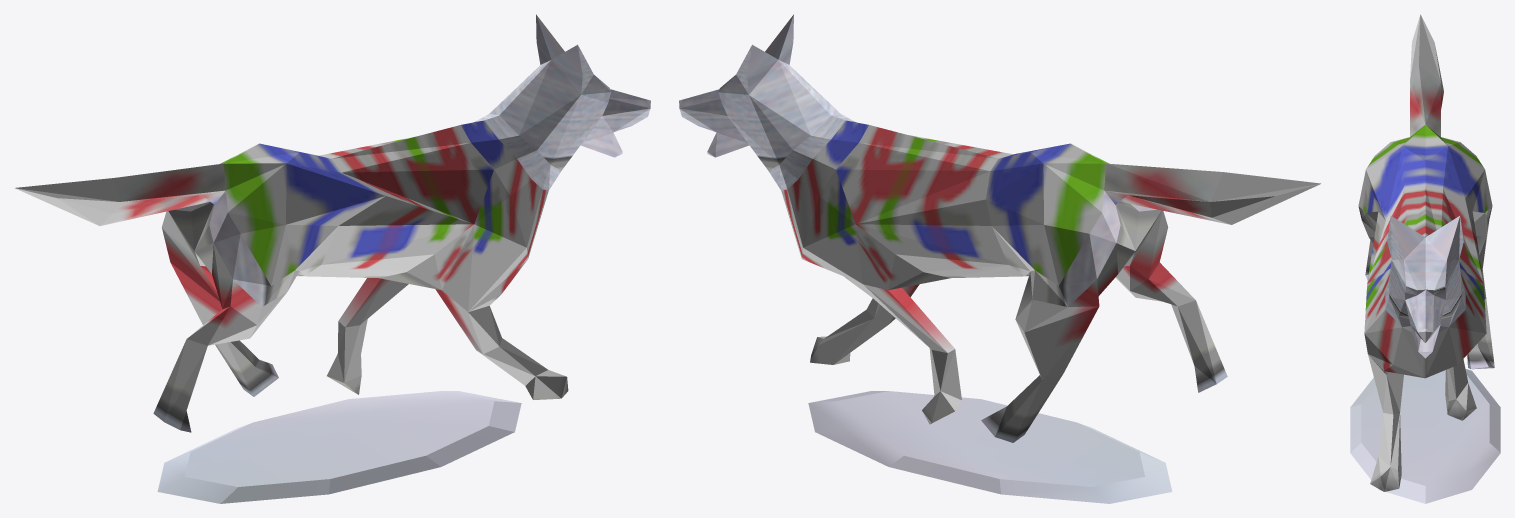
The model's file is normal.ico.obj.
3 views of the same model, side by side, from view 1: azimuth 30°, elevation 25°; view 2: azimuth 150°, elevation 25°; view 3: azimuth 270°, elevation 25° (orthographic). The views are drawn at different scales.
Size of the model in its own units: 4.18 by 2.28 by 1.03.
